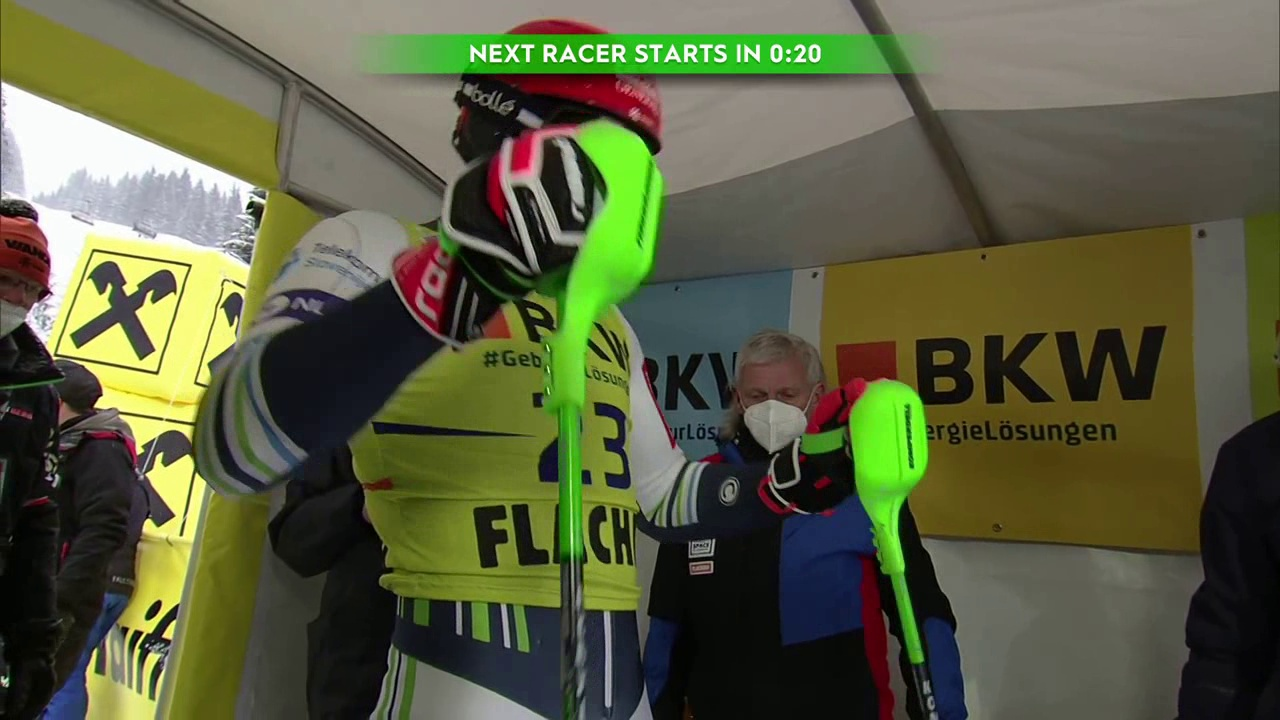raiffeisen: (55, 241, 193, 382)
